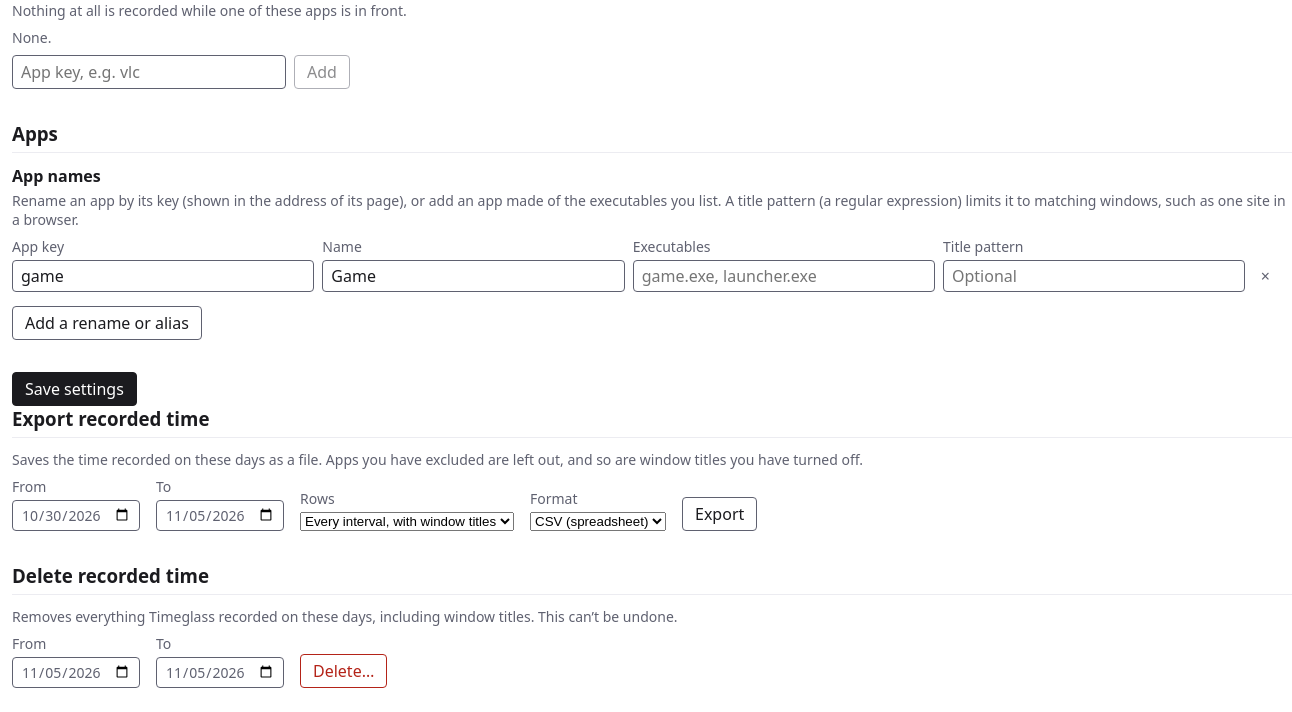
it: SettingsView › shows the errors the API finds next to their fields
The image size is (1292, 712).
(page scrolled)
Click the button "Save settings".
click(74, 389)  # box [12,372,137,406]
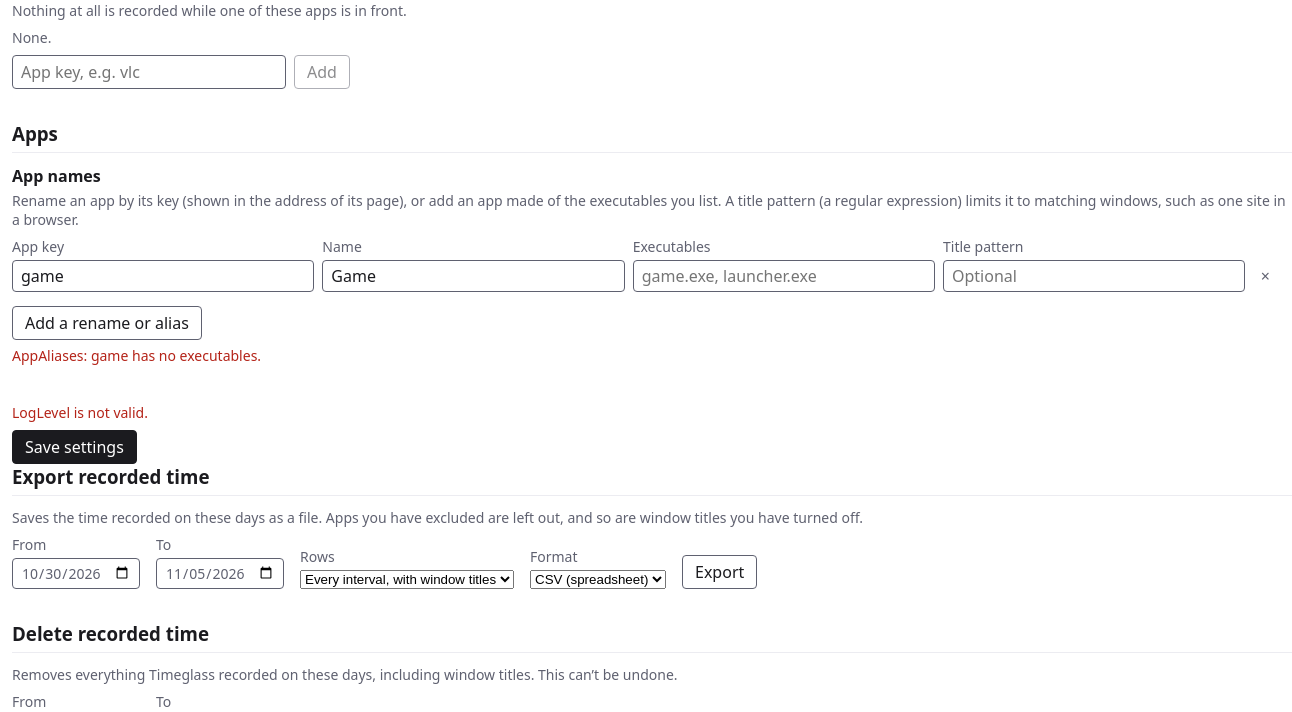
Expected: the list item "AppAliases: game has no executables." is shown, [12,346,261,365]
Expected: the list item "LogLevel is not valid." is shown, [12,403,148,422]
